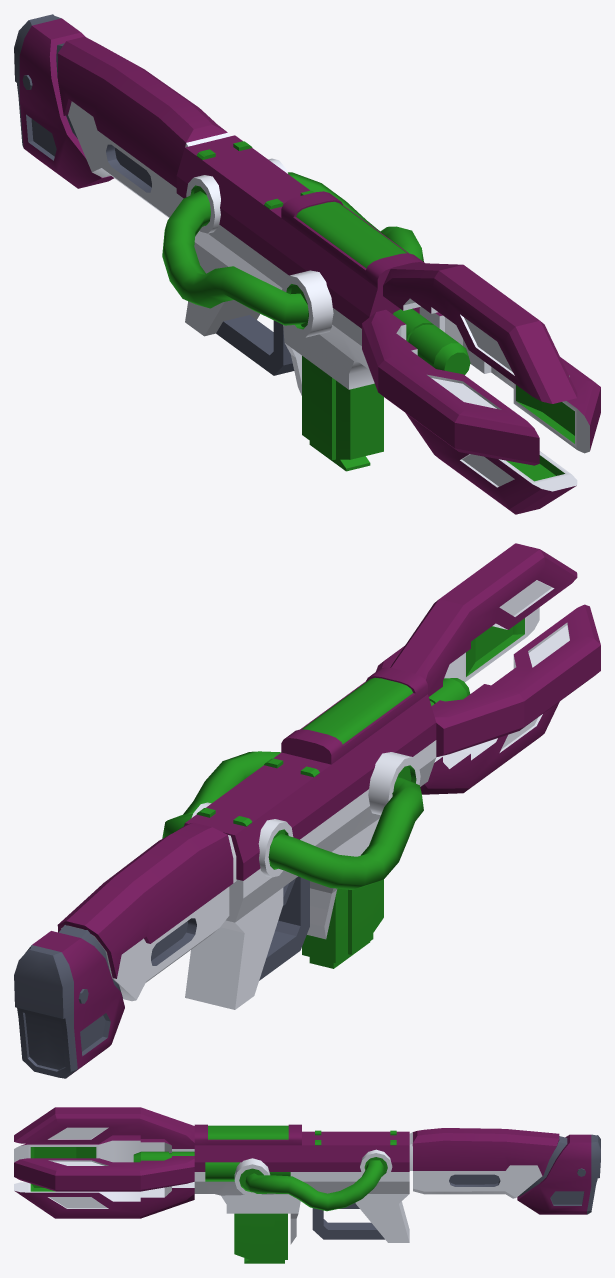
The model's file is Laser_Gun_Version_1.fbx.
3 renders of one model, top to bottom at view 1: azimuth 30°, elevation 25°; view 2: azimuth 150°, elevation 25°; view 3: azimuth 270°, elevation 25°, orthographic. The views are drawn at different scales.
Parts seen in each view (by area): view 1: jaw_prometheus (×4), stock_prometheus, mediumBlaster_handleGuard, detail_pipe_side_big (×2), mediumBlaster_magwell_viper, magazine_viper, detail_top_carmine_center_detail_b, barrel_back_marksman; view 2: stock_prometheus, jaw_prometheus (×4), mediumBlaster_handleGuard, detail_pipe_side_big (×2), mediumBlaster_magwell_viper, detail_top_carmine_center_detail_b, magazine_viper, barrel_back_marksman; view 3: jaw_prometheus (×4), stock_prometheus, mediumBlaster_handleGuard, mediumBlaster_magwell_viper, detail_pipe_side_big, magazine_viper, detail_top_carmine_center_detail_b, barrel_back_marksman.
Boxes of the visible parts, left/top/right/bottom form: jaw_prometheus (×4): left=362, top=263, right=600, bottom=514; stock_prometheus: left=14, top=14, right=229, bottom=217; mediumBlaster_handleGuard: left=176, top=135, right=309, bottom=375; detail_pipe_side_big (×2): left=162, top=158, right=423, bottom=337; mediumBlaster_magwell_viper: left=273, top=218, right=419, bottom=395; magazine_viper: left=302, top=356, right=383, bottom=471; detail_top_carmine_center_detail_b: left=281, top=191, right=424, bottom=288; barrel_back_marksman: left=393, top=309, right=470, bottom=374; stock_prometheus: left=14, top=822, right=236, bottom=1078; jaw_prometheus (×4): left=376, top=543, right=600, bottom=794; mediumBlaster_handleGuard: left=184, top=752, right=339, bottom=1009; detail_pipe_side_big (×2): left=162, top=751, right=423, bottom=889; mediumBlaster_magwell_viper: left=307, top=694, right=436, bottom=939; detail_top_carmine_center_detail_b: left=281, top=667, right=427, bottom=764; magazine_viper: left=302, top=879, right=383, bottom=968; barrel_back_marksman: left=429, top=678, right=470, bottom=705; jaw_prometheus (×4): left=14, top=1107, right=194, bottom=1218; stock_prometheus: left=409, top=1128, right=600, bottom=1214; mediumBlaster_handleGuard: left=302, top=1131, right=409, bottom=1242; mediumBlaster_magwell_viper: left=194, top=1145, right=301, bottom=1244; detail_pipe_side_big: left=234, top=1149, right=392, bottom=1211; magazine_viper: left=234, top=1213, right=287, bottom=1263; detail_top_carmine_center_detail_b: left=194, top=1124, right=301, bottom=1145; barrel_back_marksman: left=133, top=1151, right=194, bottom=1162.
Size of the model in its own units: 12.15 by 15.39 by 54.61.
